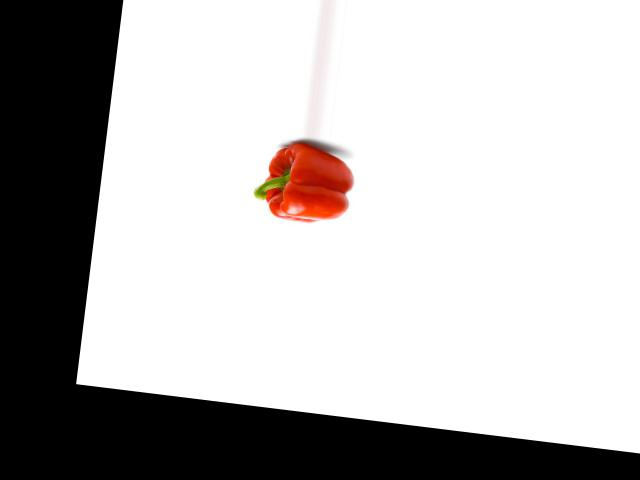bell_pepper: (245, 138, 365, 228)
